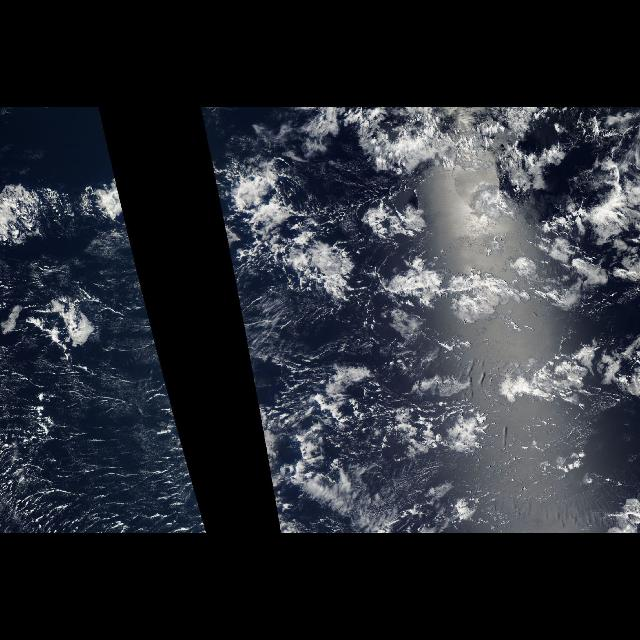Fish: (228, 192, 548, 324)
Gravel: (3, 360, 165, 528)
Sugar: (0, 326, 202, 532)
